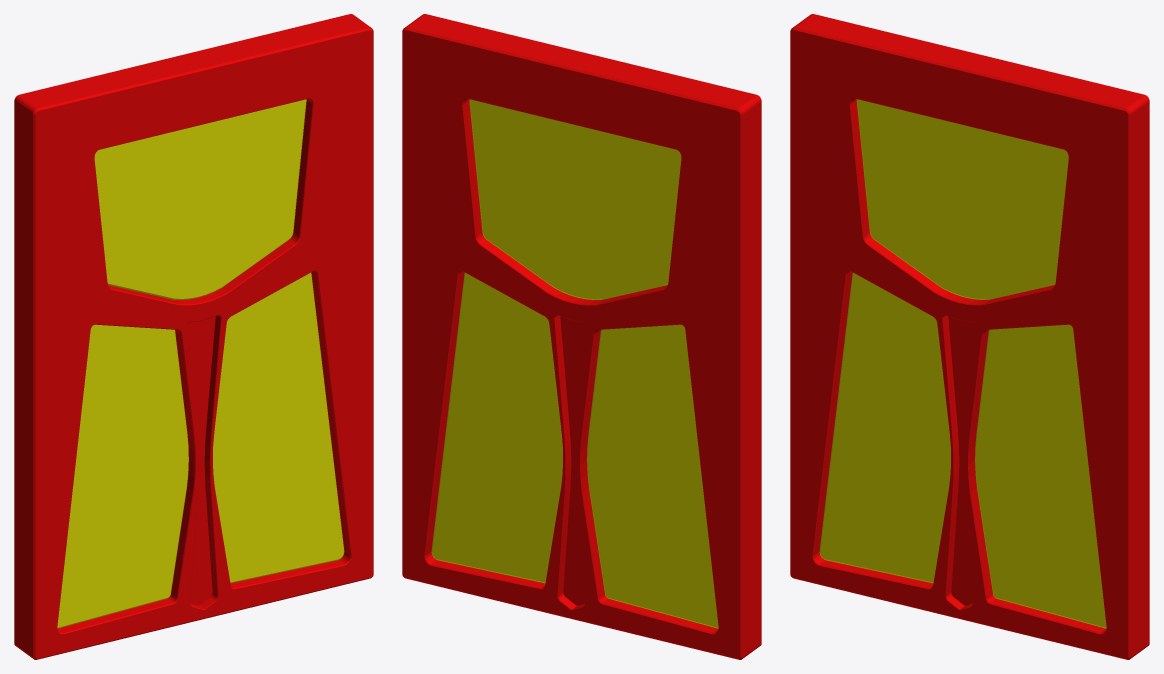
The model's file is Door_Chamber_4.fbx.
The picture shows the model from 3 angles, left to right: view 1: azimuth 30°, elevation 25°; view 2: azimuth 150°, elevation 25°; view 3: azimuth 330°, elevation 25°; orthographic projection.
Parts seen in each view (by area): view 1: L1:polySurface3024; view 2: L1:polySurface3024; view 3: L1:polySurface3024.
Boxes of the visible parts, box(x1,y1,x2,y2) form: L1:polySurface3024: box(14, 14, 373, 659); L1:polySurface3024: box(402, 14, 761, 659); L1:polySurface3024: box(790, 14, 1149, 659).
Size of the model in its own units: 159 by 245 by 16.64.
